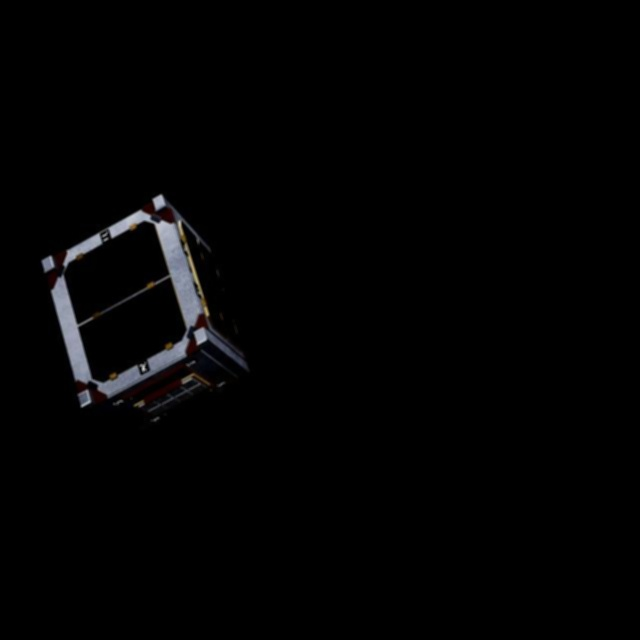medium_debris: (41, 192, 256, 447)
